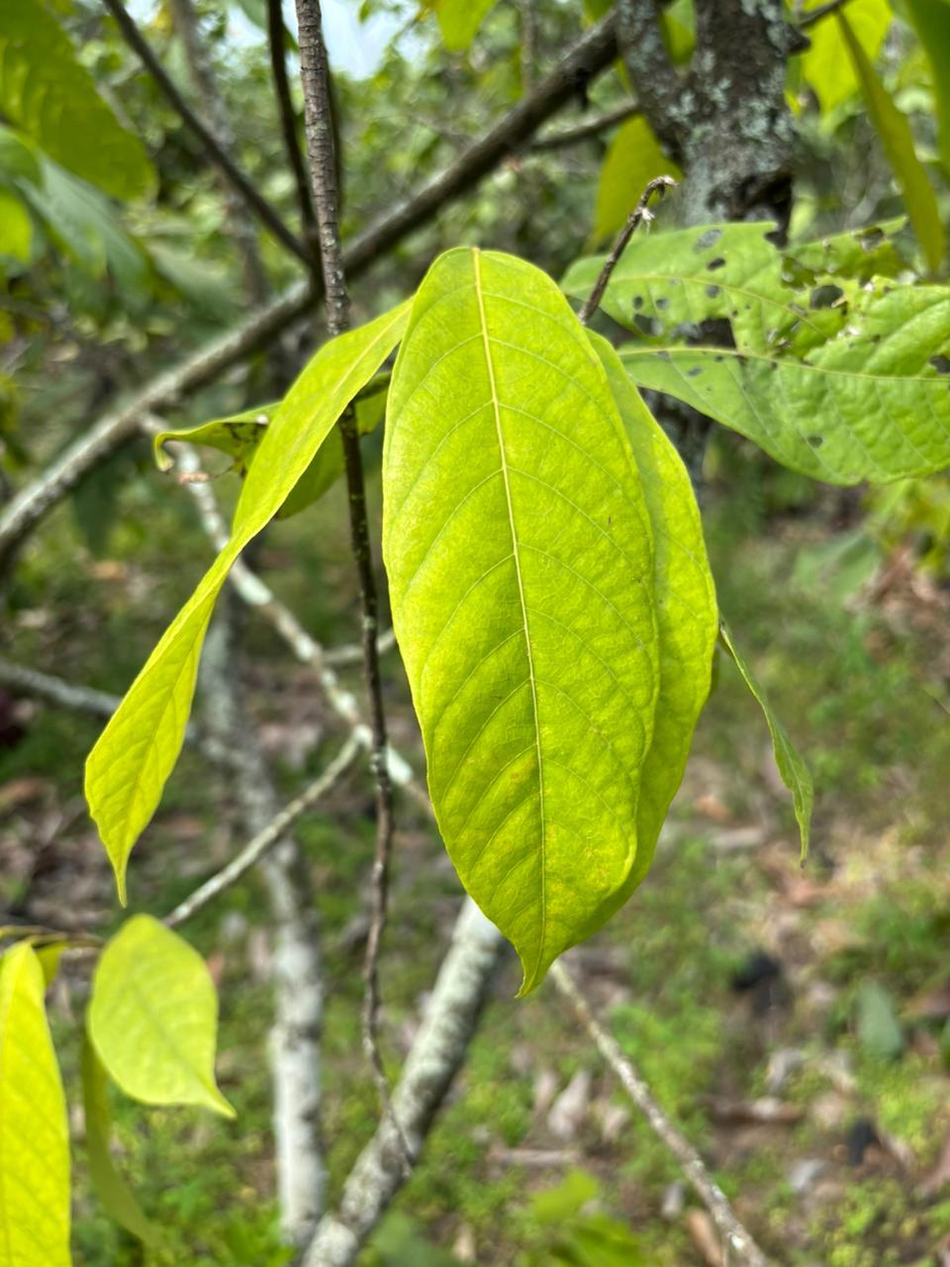deficiencia_nitrogeno: (382, 248, 668, 993)
